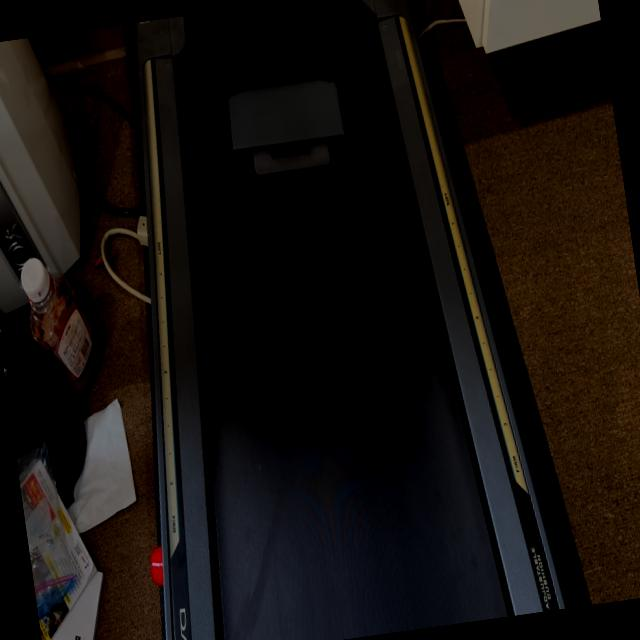Trash: (226, 78, 350, 179)
